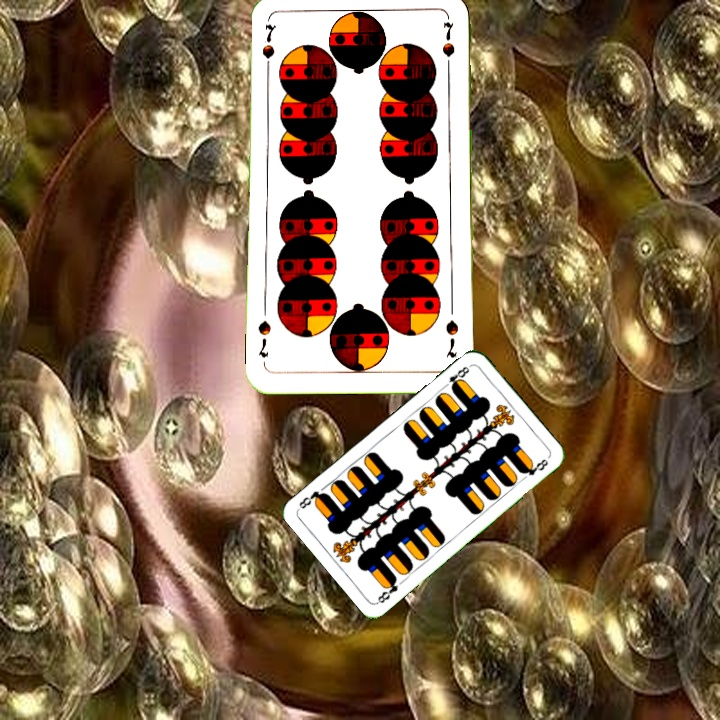E8: (439, 361, 474, 392), (373, 573, 400, 606)
S7: (258, 20, 278, 78), (441, 316, 461, 360)
